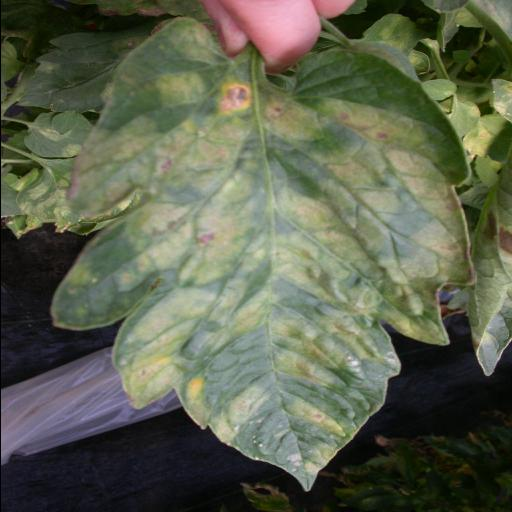Leaf Mold: (48, 15, 468, 490)
